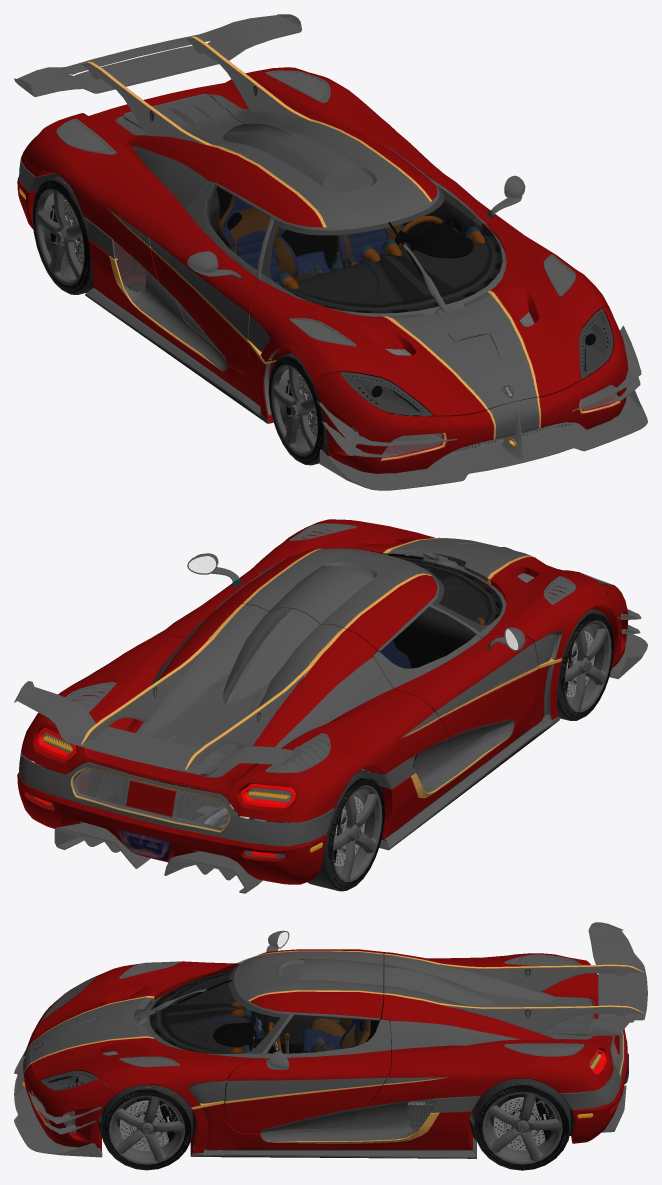
Rendered from koenigsegg-one-1-high.glb.
3 renders of one model, top to bottom at view 1: azimuth 30°, elevation 25°; view 2: azimuth 150°, elevation 25°; view 3: azimuth 270°, elevation 25°, orthographic. The views are drawn at different scales.
Parts seen in each view (by area): view 1: body, wheel_rear_right, wheel_front_right; view 2: body, wheel_rear_right, wheel_front_right; view 3: body, wheel_rear_left, wheel_front_left.
Part boxes in pixels (bbox=[...]): body: bbox=[14, 14, 647, 490]; wheel_rear_right: bbox=[32, 176, 93, 294]; wheel_front_right: bbox=[268, 353, 328, 465]; body: bbox=[14, 519, 647, 893]; wheel_rear_right: bbox=[307, 772, 384, 891]; wheel_front_right: bbox=[557, 609, 613, 720]; body: bbox=[14, 922, 647, 1158]; wheel_rear_left: bbox=[474, 1078, 570, 1170]; wheel_front_left: bbox=[101, 1084, 192, 1170].
Size of the model in its own units: 2.2 by 1.19 by 4.5.
Materials: 6 (6 with a texture image).
